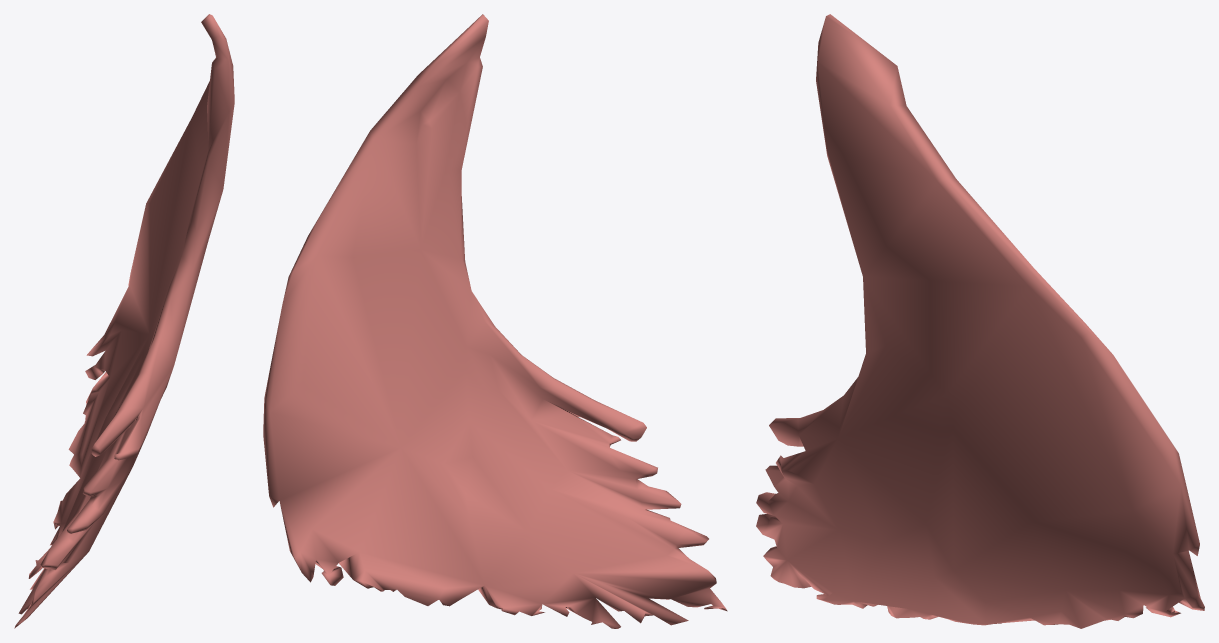
3 views of the same model, side by side, from view 1: azimuth 30°, elevation 25°; view 2: azimuth 150°, elevation 25°; view 3: azimuth 270°, elevation 25° (orthographic). The views are drawn at different scales.
Parts seen in each view (by area): view 1: ZA_1a3d4fe5b0423b37; view 2: ZA_1a3d4fe5b0423b37; view 3: ZA_1a3d4fe5b0423b37.
Part boxes in pixels (x1,y1,x2,y2): ZA_1a3d4fe5b0423b37: [14, 14, 234, 628]; ZA_1a3d4fe5b0423b37: [263, 14, 727, 628]; ZA_1a3d4fe5b0423b37: [756, 14, 1204, 628].
Bounding box in the file's own units: 0.0243 × 0.0417 × 0.024.
